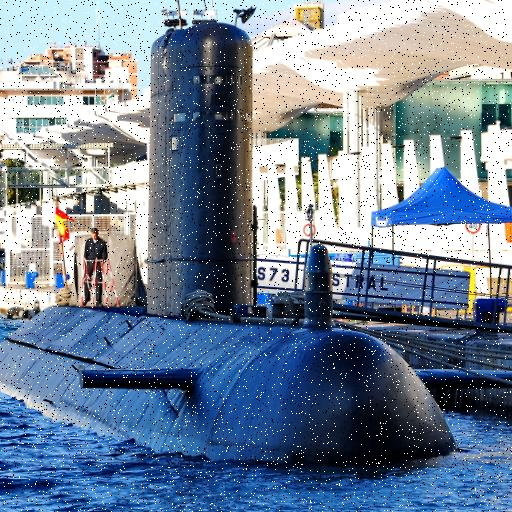submarine: (1, 21, 462, 464)
